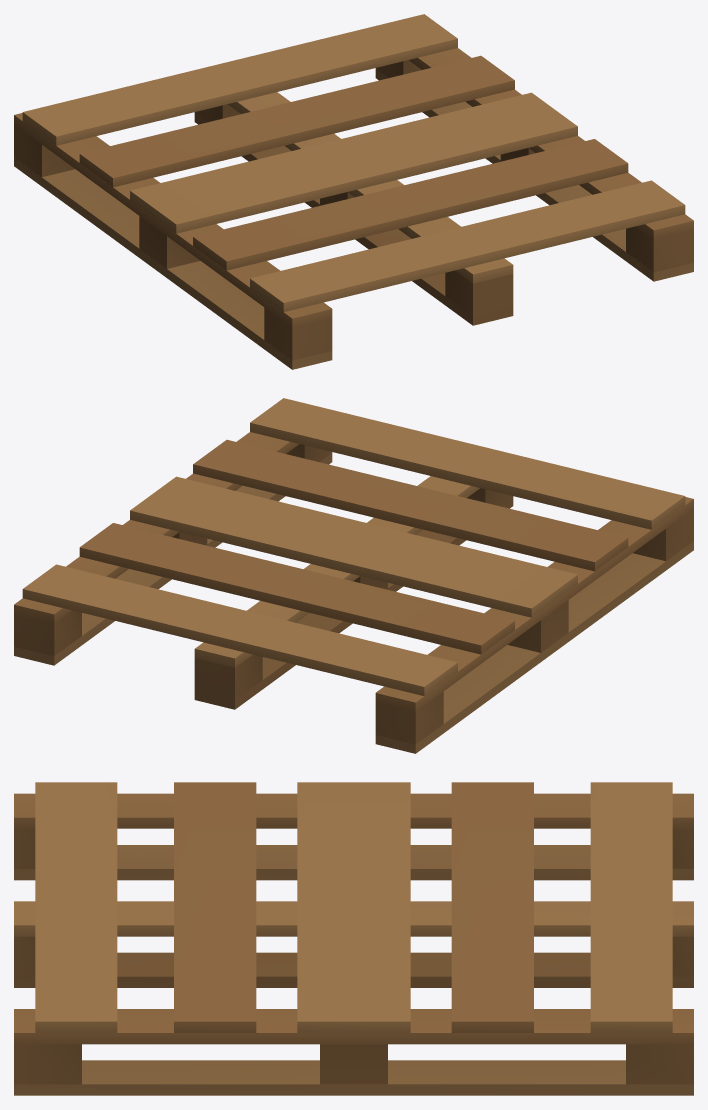
The model's file is pallet-D6yDRlV0.glb.
The picture shows the model from 3 angles, top to bottom: view 1: azimuth 30°, elevation 25°; view 2: azimuth 150°, elevation 25°; view 3: azimuth 270°, elevation 25°; orthographic projection. The views are drawn at different scales.
Visible parts, largest first — view 1: pieza.002, pieza.001, pieza.003, pieza, pieza.004, pieza.006, pieza.005, pieza.010, pieza.015, pieza.011, pieza.016, pieza.009 (+4 smaller); view 2: pieza.002, pieza.001, pieza.003, pieza.004, pieza, pieza.006, pieza.005, pieza.010, pieza.015, pieza.011, pieza.016, pieza.007 (+4 smaller); view 3: pieza.002, pieza, pieza.001, pieza.003, pieza.004, pieza.016, pieza.015, pieza.010, pieza.005, pieza.006, pieza.011, pieza.017 (+6 smaller).
Part boxes in pixels (x1,y1,x2,y2): pieza.002: [130, 92, 577, 233]; pieza.001: [79, 55, 514, 187]; pieza.003: [193, 139, 628, 270]; pieza: [22, 14, 457, 145]; pieza.004: [250, 180, 685, 312]; pieza.006: [14, 157, 332, 369]; pieza.005: [14, 113, 332, 327]; pieza.010: [228, 92, 513, 283]; pieza.015: [409, 48, 693, 239]; pieza.011: [194, 113, 513, 325]; pieza.016: [375, 69, 693, 281]; pieza.009: [264, 307, 332, 360]; pieza.002: [130, 476, 577, 617]; pieza.001: [79, 523, 514, 654]; pieza.003: [193, 439, 628, 571]; pieza.004: [250, 398, 685, 529]; pieza: [22, 564, 457, 696]; pieza.006: [375, 541, 693, 753]; pieza.005: [375, 497, 693, 711]; pieza.010: [194, 476, 479, 667]; pieza.015: [14, 432, 298, 623]; pieza.011: [194, 497, 513, 709]; pieza.016: [14, 453, 332, 665]; pieza.007: [375, 691, 443, 744]; pieza.002: [297, 782, 410, 1032]; pieza: [590, 782, 672, 1032]; pieza.001: [451, 782, 533, 1032]; pieza.003: [174, 782, 256, 1032]; pieza.004: [35, 782, 117, 1032]; pieza.016: [14, 1060, 693, 1095]; pieza.015: [14, 1009, 693, 1044]; pieza.010: [14, 901, 693, 936]; pieza.005: [14, 793, 693, 828]; pieza.006: [14, 845, 693, 880]; pieza.011: [14, 952, 693, 987]; pieza.017: [626, 1044, 693, 1084].
Bounding box in the file's own units: 1 × 0.144 × 1.2.
